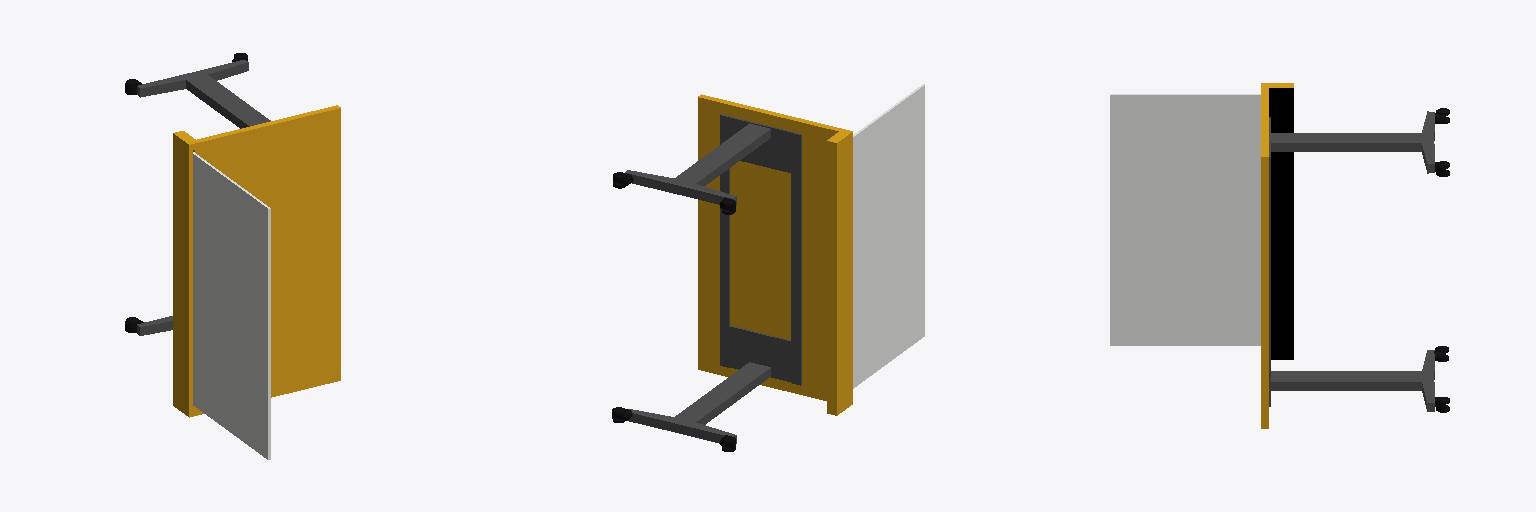
The model's file is whiteboard.obj.
3 renders of one model, left to right at view 1: azimuth 30°, elevation 25°; view 2: azimuth 150°, elevation 25°; view 3: azimuth 270°, elevation 25°, orthographic.
Parts seen in each view (by area): view 1: tischplatte, whiteboard_(1), bein4, bein3; view 2: tischplatte, whiteboard_(1), Body15, bein4, bein1, bein3, bein2; view 3: whiteboard_(1), tischplatte, bein3, bein2, bein1, bein4, Body15.
Part boxes in pixels (left/top/right/bottom): tischplatte: left=173, top=105, right=340, bottom=417; whiteboard_(1): left=193, top=152, right=270, bottom=459; bein4: left=137, top=73, right=259, bottom=128; bein3: left=192, top=60, right=270, bottom=123; tischplatte: left=698, top=94, right=852, bottom=415; whiteboard_(1): left=853, top=84, right=924, bottom=388; Body15: left=720, top=114, right=801, bottom=385; bein4: left=679, top=126, right=770, bottom=205; bein1: left=679, top=365, right=770, bottom=443; bein3: left=625, top=123, right=759, bottom=194; bein2: left=627, top=362, right=758, bottom=432; whiteboard_(1): left=1110, top=94, right=1260, bottom=345; tischplatte: left=1261, top=83, right=1293, bottom=428; bein3: left=1271, top=138, right=1434, bottom=173; bein2: left=1271, top=377, right=1434, bottom=411; bein1: left=1271, top=350, right=1434, bottom=379; bein4: left=1271, top=111, right=1434, bottom=140; Body15: left=1269, top=117, right=1270, bottom=406.
Size of the model in its own units: 0.7 by 1.2 by 1.35.